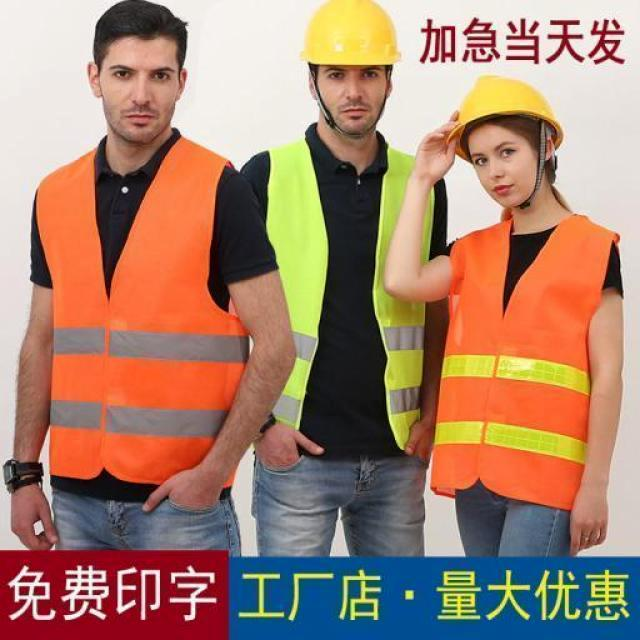hard_hat: (451, 76, 562, 148), (300, 0, 400, 65)
no_head_wear: (92, 0, 186, 68)
person: (4, 0, 292, 554), (241, 0, 451, 555), (385, 76, 622, 555)
